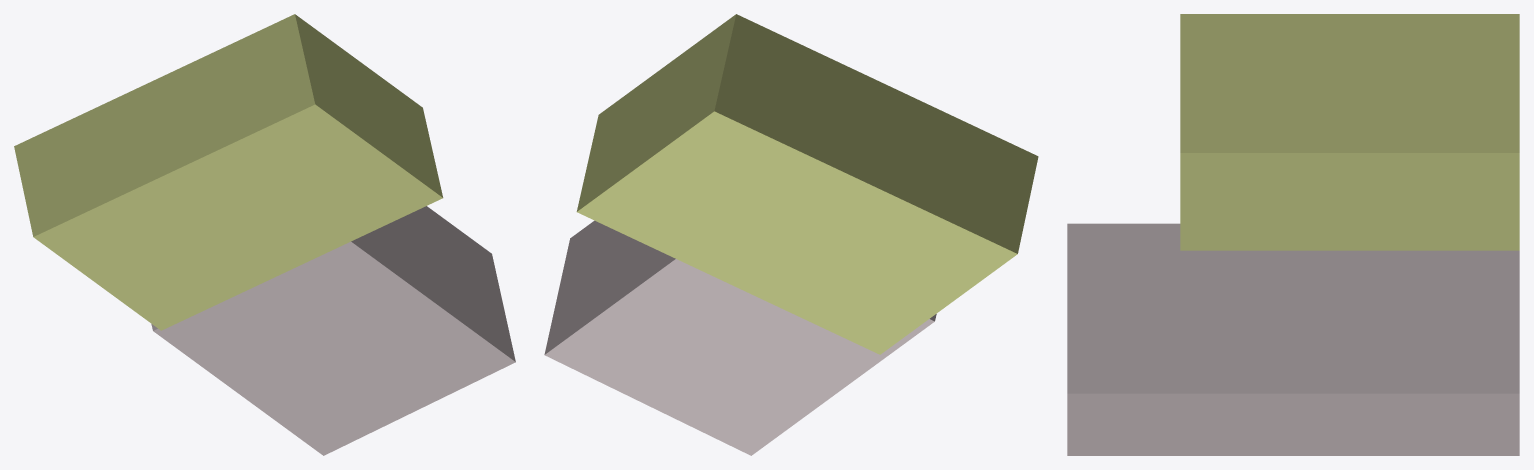
3 views of the same model, side by side, from view 1: azimuth 30°, elevation 25°; view 2: azimuth 150°, elevation 25°; view 3: azimuth 270°, elevation 25° (orthographic). The views are drawn at different scales.
Parts seen in each view (by area): view 1: 0_1_2_0_3_3_0_3_1_1; view 2: 0_1_2_0_3_3_0_3_1_1; view 3: 0_1_2_0_3_3_0_3_1_1.
Boxes of the visible parts, <box> form: 0_1_2_0_3_3_0_3_1_1: <box>14,14,515,455</box>; 0_1_2_0_3_3_0_3_1_1: <box>544,14,1038,455</box>; 0_1_2_0_3_3_0_3_1_1: <box>1067,14,1519,455</box>.
Bounding box in the file's own units: 13.45 × 10.96 × 12.
